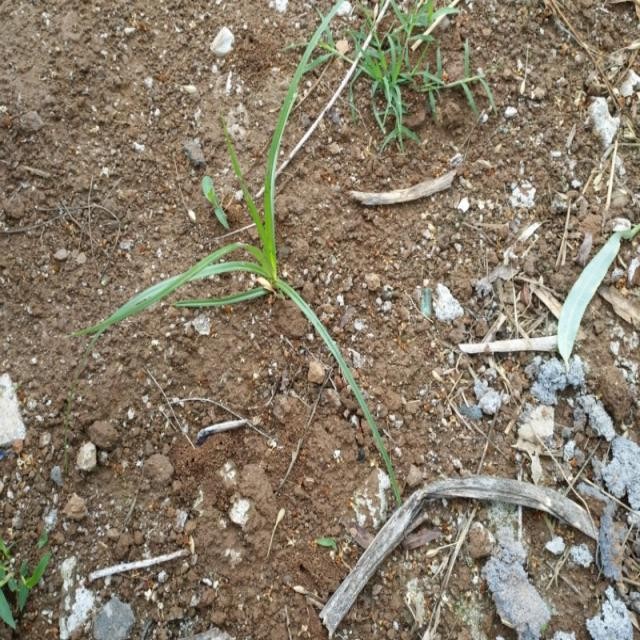sedge: (48, 54, 419, 453)
